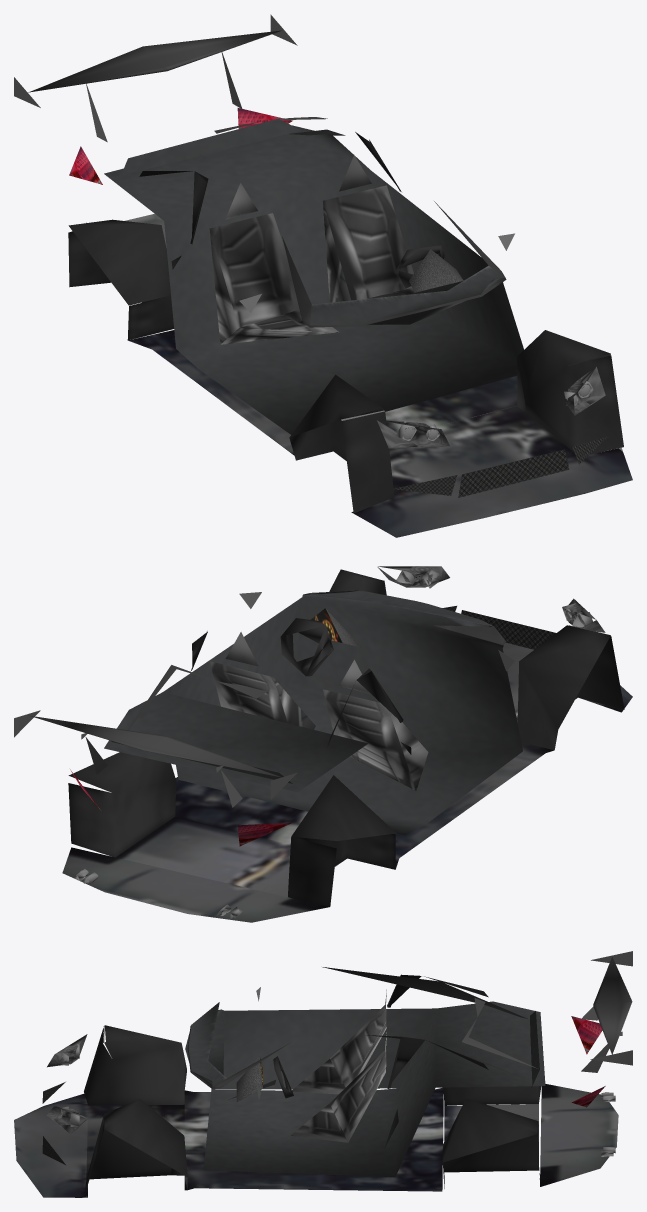
Rendered from XZ_interior_d1.obj.
3 views of the same model, one above another, from view 1: azimuth 30°, elevation 25°; view 2: azimuth 150°, elevation 25°; view 3: azimuth 270°, elevation 25° (orthographic). The views are drawn at different scales.
Parts seen in each view (by area): view 1: XZ_interior; view 2: XZ_interior; view 3: XZ_interior.
Boxes of the visible parts, x1,y1,x2,y2 form: XZ_interior: (14, 14, 632, 537); XZ_interior: (14, 566, 632, 922); XZ_interior: (14, 951, 632, 1197).
Bounding box in the file's own units: 1.93 × 1.31 × 4.73.
Materials: 1 (1 with a texture image).
